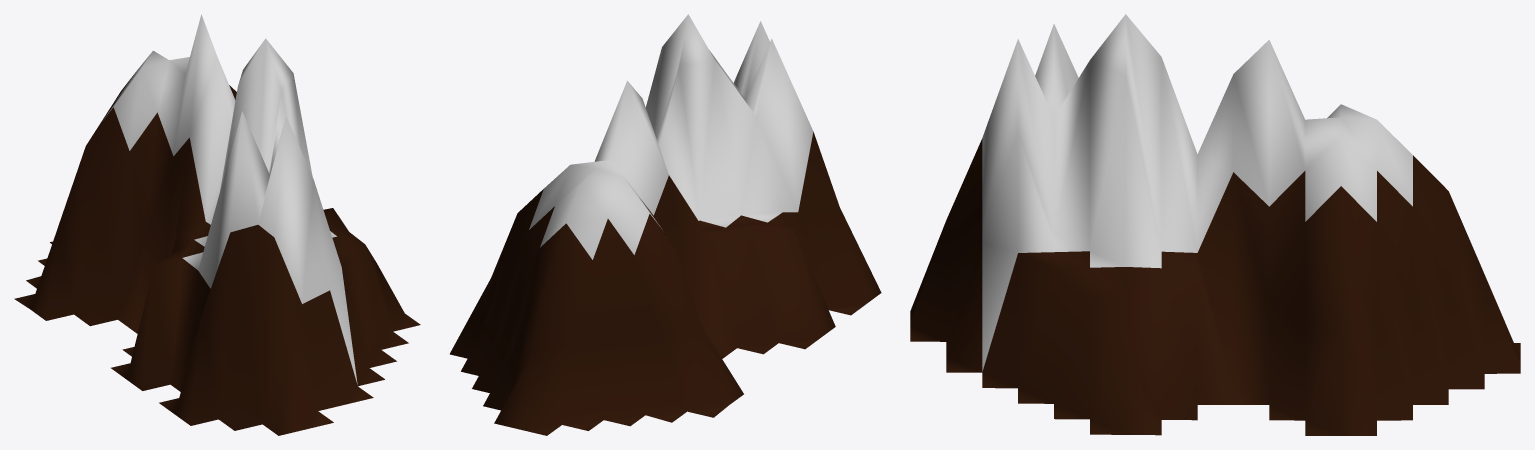
The model's file is montañas.FBX.
3 views of the same model, side by side, from view 1: azimuth 30°, elevation 25°; view 2: azimuth 150°, elevation 25°; view 3: azimuth 270°, elevation 25° (orthographic). The views are drawn at different scales.
Visible parts, largest first — view 1: Plane001; view 2: Plane001; view 3: Plane001.
Part boxes in pixels (x1=…): Plane001: x1=14, y1=14, x2=420, y2=435; Plane001: x1=450, y1=14, x2=881, y2=435; Plane001: x1=910, y1=14, x2=1520, y2=435.
Size of the model in its own units: 100 by 106 by 170.
